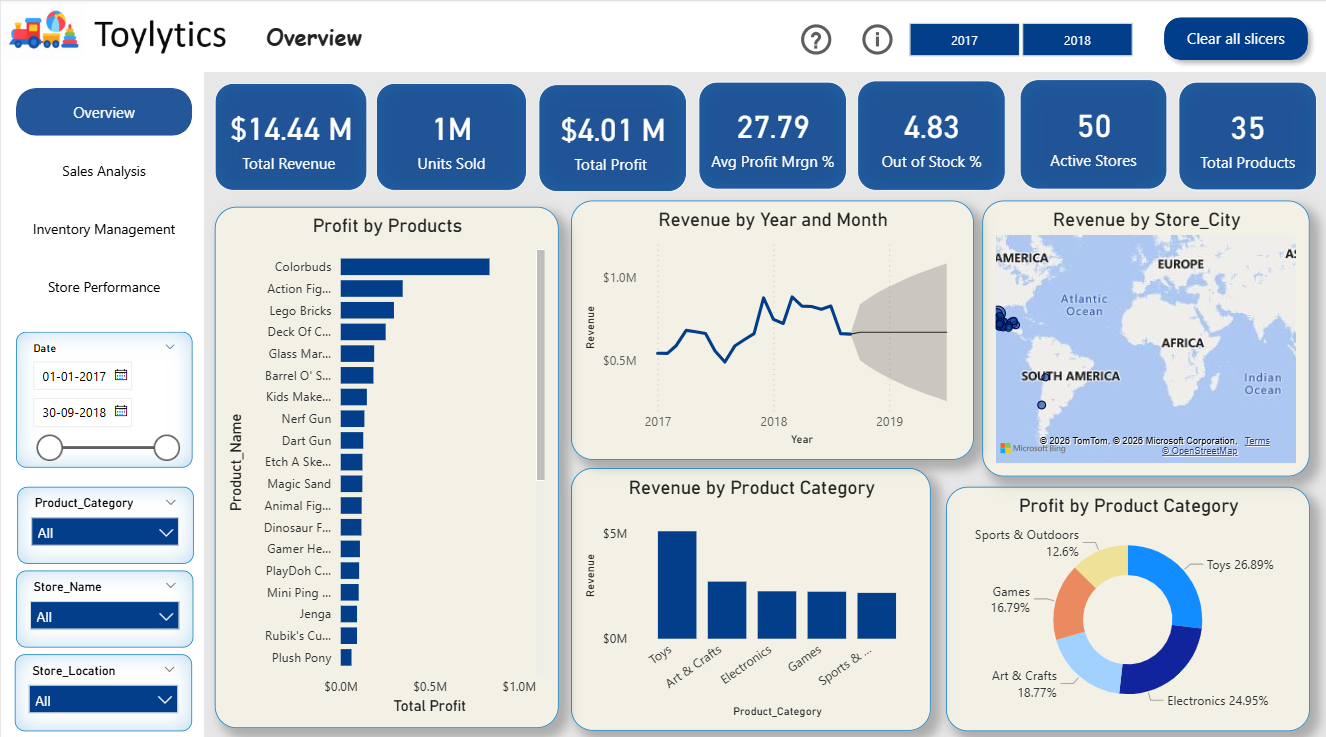

The dashboard page shown, as its layout file describes it:
{"tool":"powerbi","page":{"name":"Overview","canvas":[1280,720],"ordinal":0},"visuals":[{"type":"card","fields":{"Values":["sales.Total Revenue KPI"]},"box":[206.3,86.9,143.6,102.5],"z":0},{"type":"card","fields":{"Values":["Sum(sales.Units)"]},"box":[361.9,86.9,143.6,102],"z":1000},{"type":"card","fields":{"Values":["sales.total profit kpi"]},"box":[516.4,86.9,143.6,101.3],"z":2000},{"type":"card","fields":{"Values":["sales.Average Profit Margin %"]},"box":[672,85.7,142.4,102.5],"z":3000},{"type":"card","fields":{"Values":["inventory.Out of Stock %"]},"box":[826.4,85.7,143.6,101.3],"z":4000},{"type":"card","fields":{"Values":["sales.Average YoY % Revenue"]},"box":[982,84.5,142.4,102.5],"z":5000},{"type":"lineChart","title":"Revenue by Year and Month","fields":{"Y":["sales.Total Revenue"],"Category":["Date.Date.Variation.Date Hierarchy.Year","Date.Date.Variation.Date Hierarchy.Month"]},"box":[550,195,388.8,250],"z":6000},{"type":"map","title":"Revenue by Store_City","fields":{"Category":["stores.Store_City"],"Size":["sales.Total Revenue"]},"box":[947.1,195.4,316.1,266.6],"z":7000},{"type":"clusteredColumnChart","title":"Revenue by Product Category","fields":{"Category":["products.Product_Category"],"Y":["sales.Total Revenue"]},"box":[550,453.8,347.5,253.8],"z":8000},{"type":"donutChart","title":"Profit by Product Category","fields":{"Category":["products.Product_Category"],"Y":["sales.Total Profit"]},"box":[912.5,471.2,351.2,236.2],"z":9000},{"type":"clusteredBarChart","title":"Profit by Products","fields":{"Category":["products.Product_Name"],"Y":["sales.Total Profit"]},"box":[206.3,201.5,331.8,503.1],"z":10000},{"type":"pageNavigator","box":[14.5,103.8,170.1,217.2],"z":11000},{"type":"slicer","fields":{"Values":["sales.Date"]},"box":[869.8,9.7,235.3,55],"z":12000},{"type":"slicer","fields":{"Values":["products.Product_Category"]},"box":[15.7,381,170.1,74.8],"z":13000},{"type":"slicer","fields":{"Values":["stores.Store_Name"]},"box":[14.5,490.9,171.3,74.8],"z":14000},{"type":"slicer","fields":{"Values":["stores.Store_Location"]},"box":[13.3,600.8,171.3,74.8],"z":15000},{"type":"textbox","box":[250.9,16.9,130.3,42.2],"z":16000},{"type":"actionButton","box":[1113.5,9.7,156.8,59.1],"z":17000},{"type":"card","fields":{"Values":["CountNonNull(products.Product_ID)"]},"box":[1136.5,84.5,142.4,102.5],"z":18000},{"type":"actionButton","box":[826.8,20.7,40.2,39],"z":19000},{"type":"actionButton","box":[767.1,20.7,50,39],"z":21000}]}

Visuals, with their boxes in screenshot pixels (x1, y1, x2, y2), scaled from the page's 1280x720 canvas onto the 1326x737 screenshot:
card - sales.Total Revenue KPI: 214,89,362,194
card - Sum(sales.Units): 375,89,524,193
card - sales.total profit kpi: 535,89,684,193
card - sales.Average Profit Margin %: 696,88,844,193
card - inventory.Out of Stock %: 856,88,1005,191
card - sales.Average YoY % Revenue: 1017,86,1165,191
"Revenue by Year and Month" lineChart: 570,200,973,456
"Revenue by Store_City" map: 981,200,1309,473
"Revenue by Product Category" clusteredColumnChart: 570,465,930,724
"Profit by Product Category" donutChart: 945,482,1309,724
"Profit by Products" clusteredBarChart: 214,206,557,721
pageNavigator: 15,106,191,329
slicer - sales.Date: 901,10,1145,66
slicer - products.Product_Category: 16,390,192,467
slicer - stores.Store_Name: 15,502,192,579
slicer - stores.Store_Location: 14,615,191,692
textbox: 260,17,395,60
actionButton: 1154,10,1316,70
card - CountNonNull(products.Product_ID): 1177,86,1325,191
actionButton: 857,21,898,61
actionButton: 795,21,846,61
